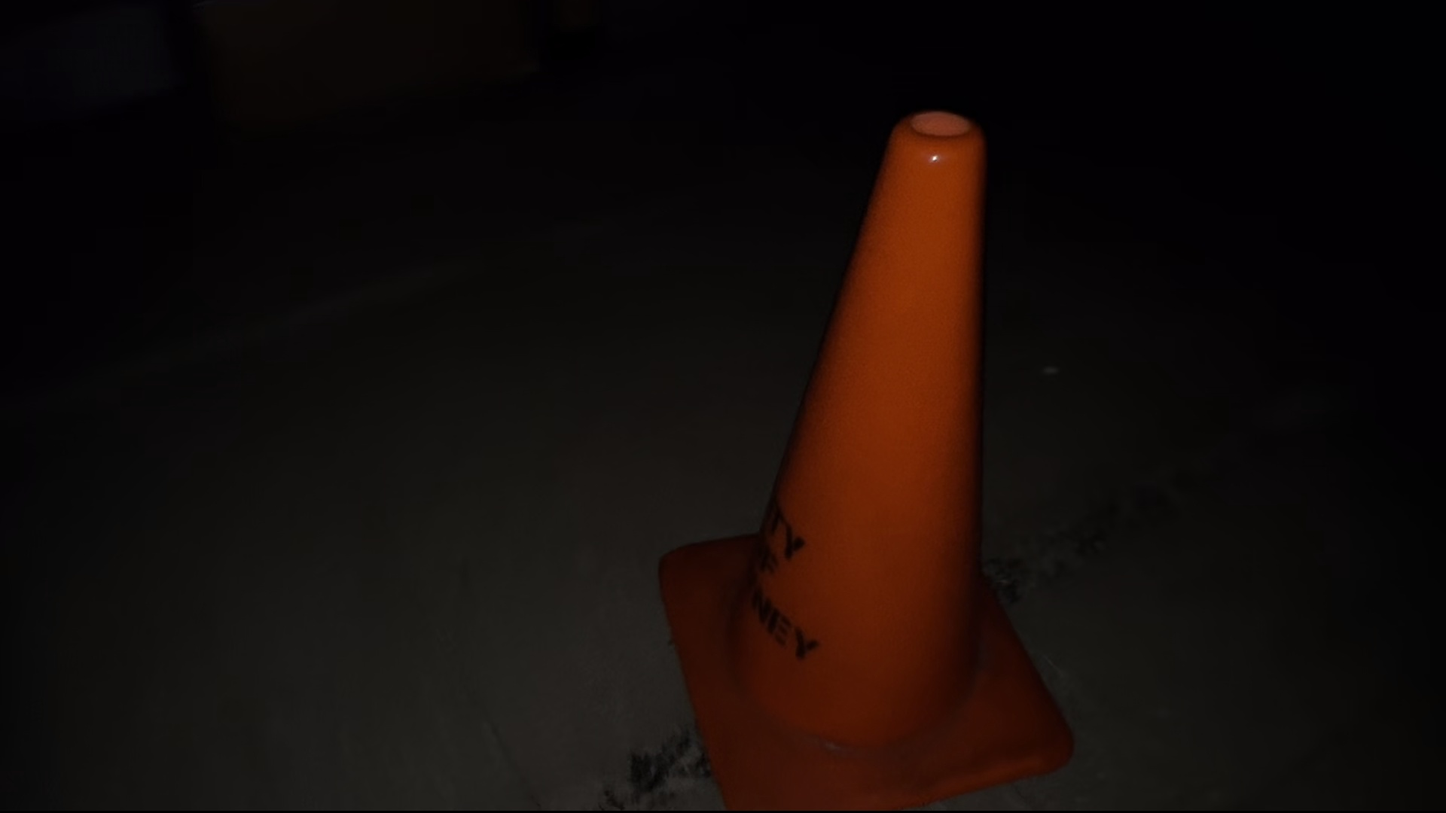traffic_cone: (657, 109, 1076, 810)
